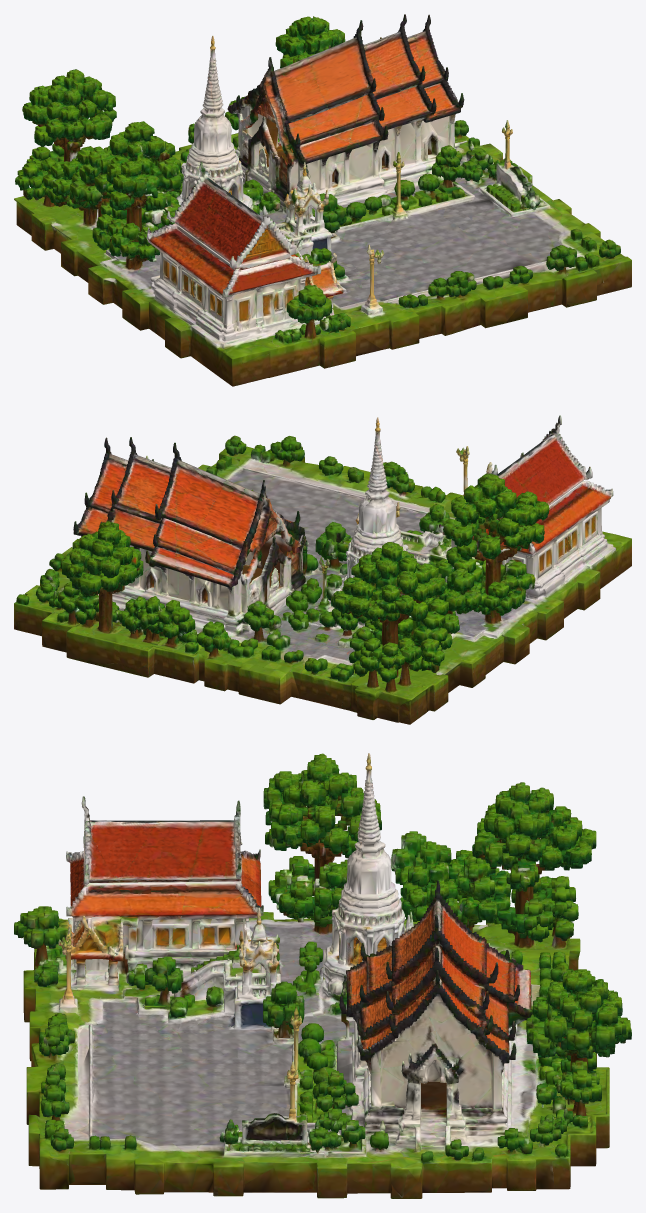
File: sao-thong-thong.glb
The picture shows the model from 3 angles, top to bottom: view 1: azimuth 30°, elevation 25°; view 2: azimuth 150°, elevation 25°; view 3: azimuth 270°, elevation 25°; orthographic projection. The views are drawn at different scales.
Size of the model in its own units: 1.9 by 0.9216 by 1.92.
Materials: 1 (1 with a texture image).
